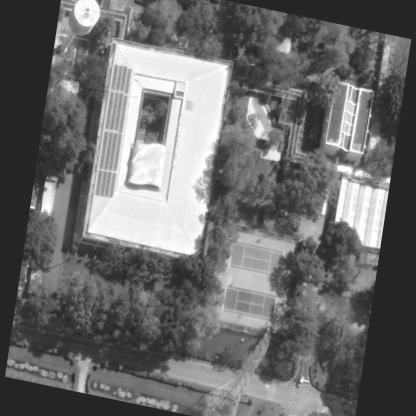solar-pv-panel: (94, 64, 132, 198)
